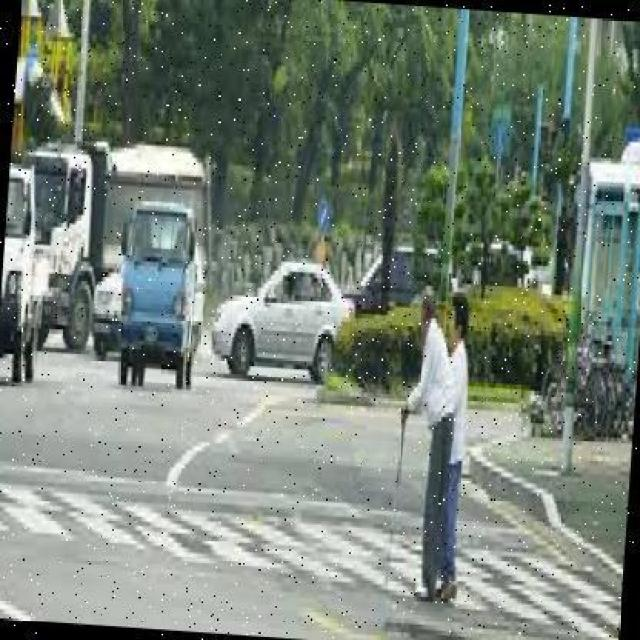Person: (376, 284, 461, 611), (431, 288, 474, 595)
